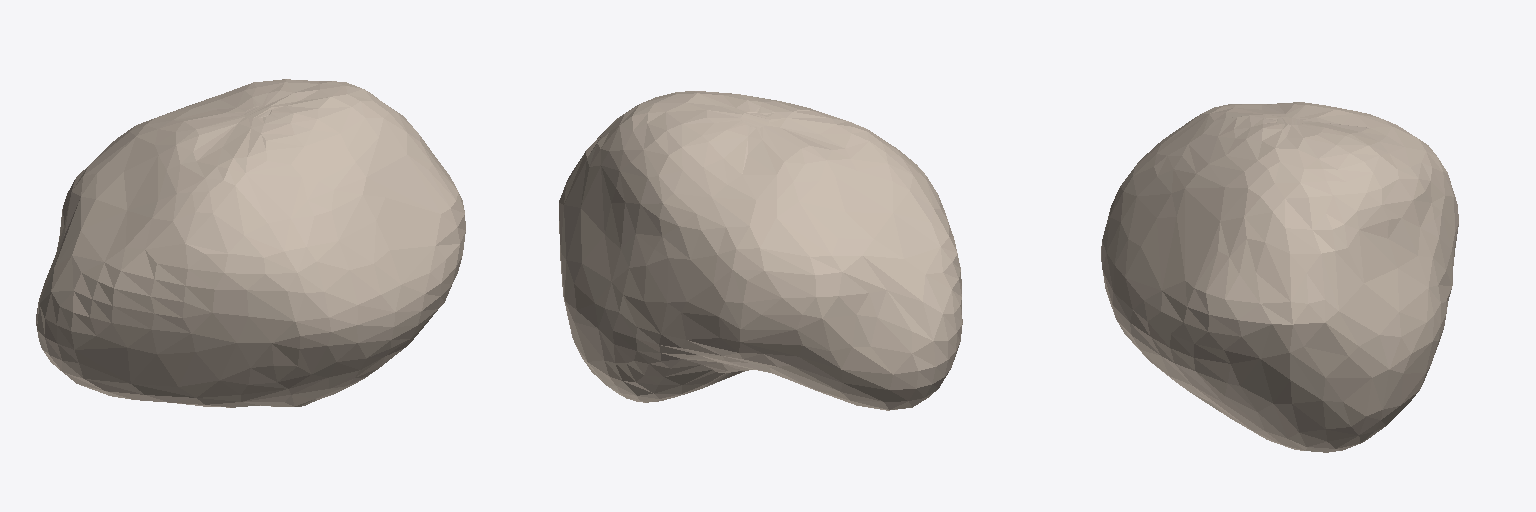
Rendered from deimos_t.obj.
3 renders of one model, left to right at view 1: azimuth 30°, elevation 25°; view 2: azimuth 150°, elevation 25°; view 3: azimuth 270°, elevation 25°, orthographic.
Visible parts, largest first — view 1: deimos; view 2: deimos; view 3: deimos.
Part boxes in pixels (bbox=[...]): deimos: bbox=[36, 79, 465, 407]; deimos: bbox=[559, 91, 962, 410]; deimos: bbox=[1101, 102, 1458, 452].
Size of the model in its own units: 159 by 111 by 126.